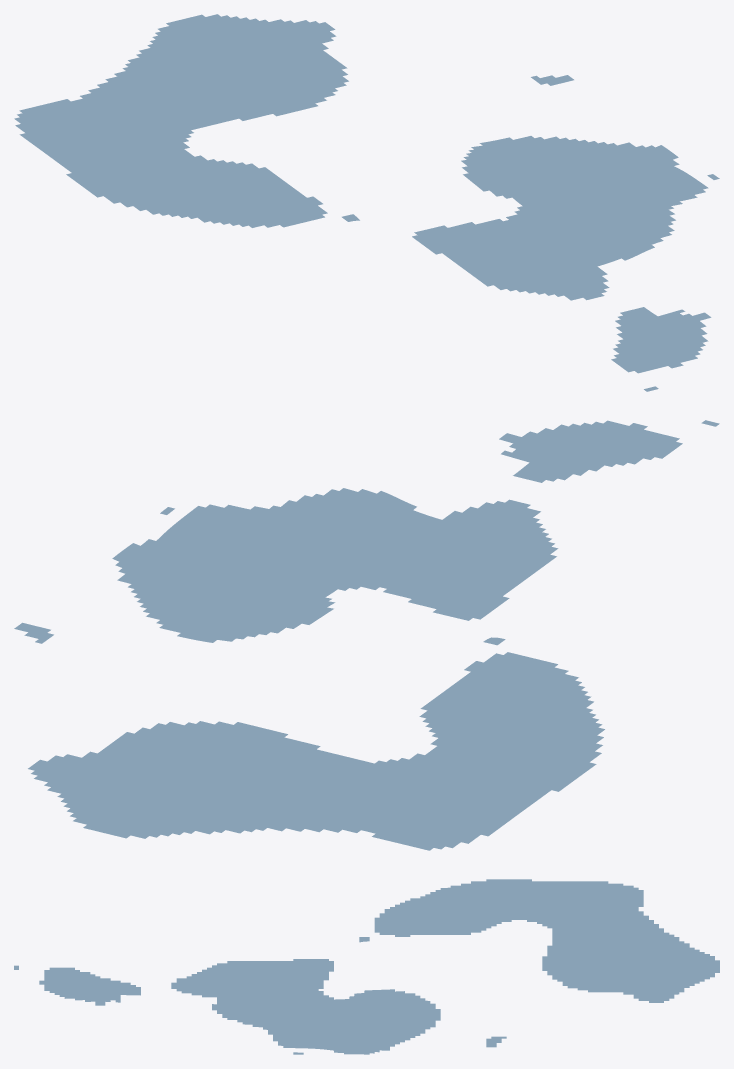
The model's file is garden.water.glb.
The picture shows the model from 3 angles, top to bottom: view 1: azimuth 30°, elevation 25°; view 2: azimuth 150°, elevation 25°; view 3: azimuth 270°, elevation 25°; orthographic projection. The views are drawn at different scales.
Parts seen in each view (by area): view 1: water; view 2: water; view 3: water.
Boxes of the visible parts, x1,y1,x2,y2 form: water: [14, 14, 719, 391]; water: [14, 420, 719, 850]; water: [14, 879, 719, 1054].
Size of the model in its own units: 20.14 by 0.4478 by 34.73.
